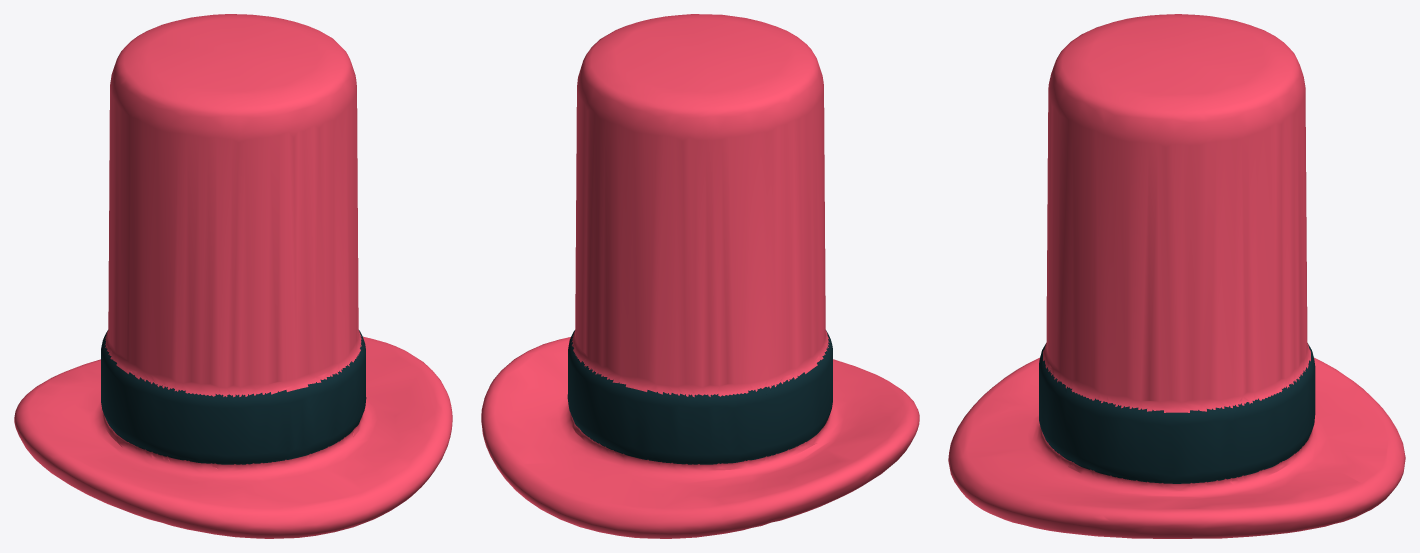
Rendered from hat.glb.
3 renders of one model, left to right at view 1: azimuth 30°, elevation 25°; view 2: azimuth 150°, elevation 25°; view 3: azimuth 270°, elevation 25°, orthographic. The views are drawn at different scales.
Parts seen in each view (by area): view 1: hat; view 2: hat; view 3: hat.
Boxes of the visible parts, x1=… form: hat: x1=14, y1=14, x2=452, y2=538; hat: x1=481, y1=14, x2=919, y2=538; hat: x1=948, y1=14, x2=1405, y2=538.
Bounding box in the file's own units: 0.9571 × 0.9699 × 0.9594.
